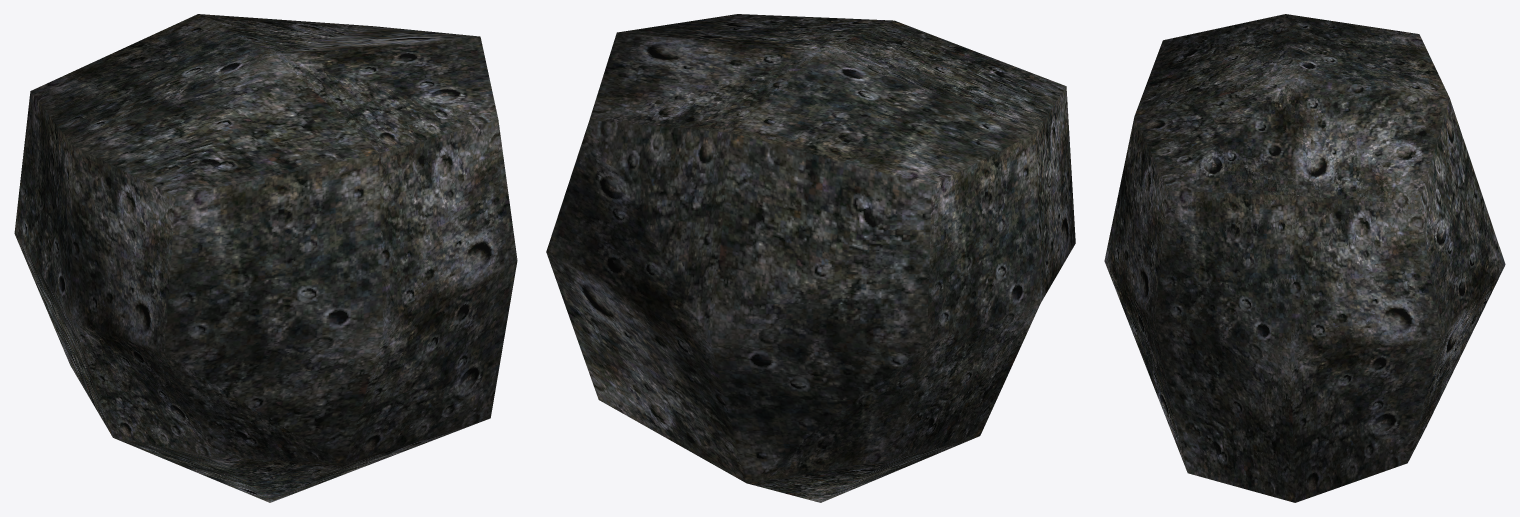
Rendered from asteroid_iron_medium_s01_l2.fbx.
The picture shows the model from 3 angles, left to right: view 1: azimuth 30°, elevation 25°; view 2: azimuth 150°, elevation 25°; view 3: azimuth 270°, elevation 25°; orthographic projection. The views are drawn at different scales.
Parts seen in each view (by area): view 1: mesh_node; view 2: mesh_node; view 3: mesh_node.
Boxes of the visible parts, x1,y1,x2,y2 form: mesh_node: [14, 14, 517, 502]; mesh_node: [546, 14, 1075, 502]; mesh_node: [1104, 14, 1505, 502].
Size of the model in its own units: 53.23 by 54.83 by 48.46.
